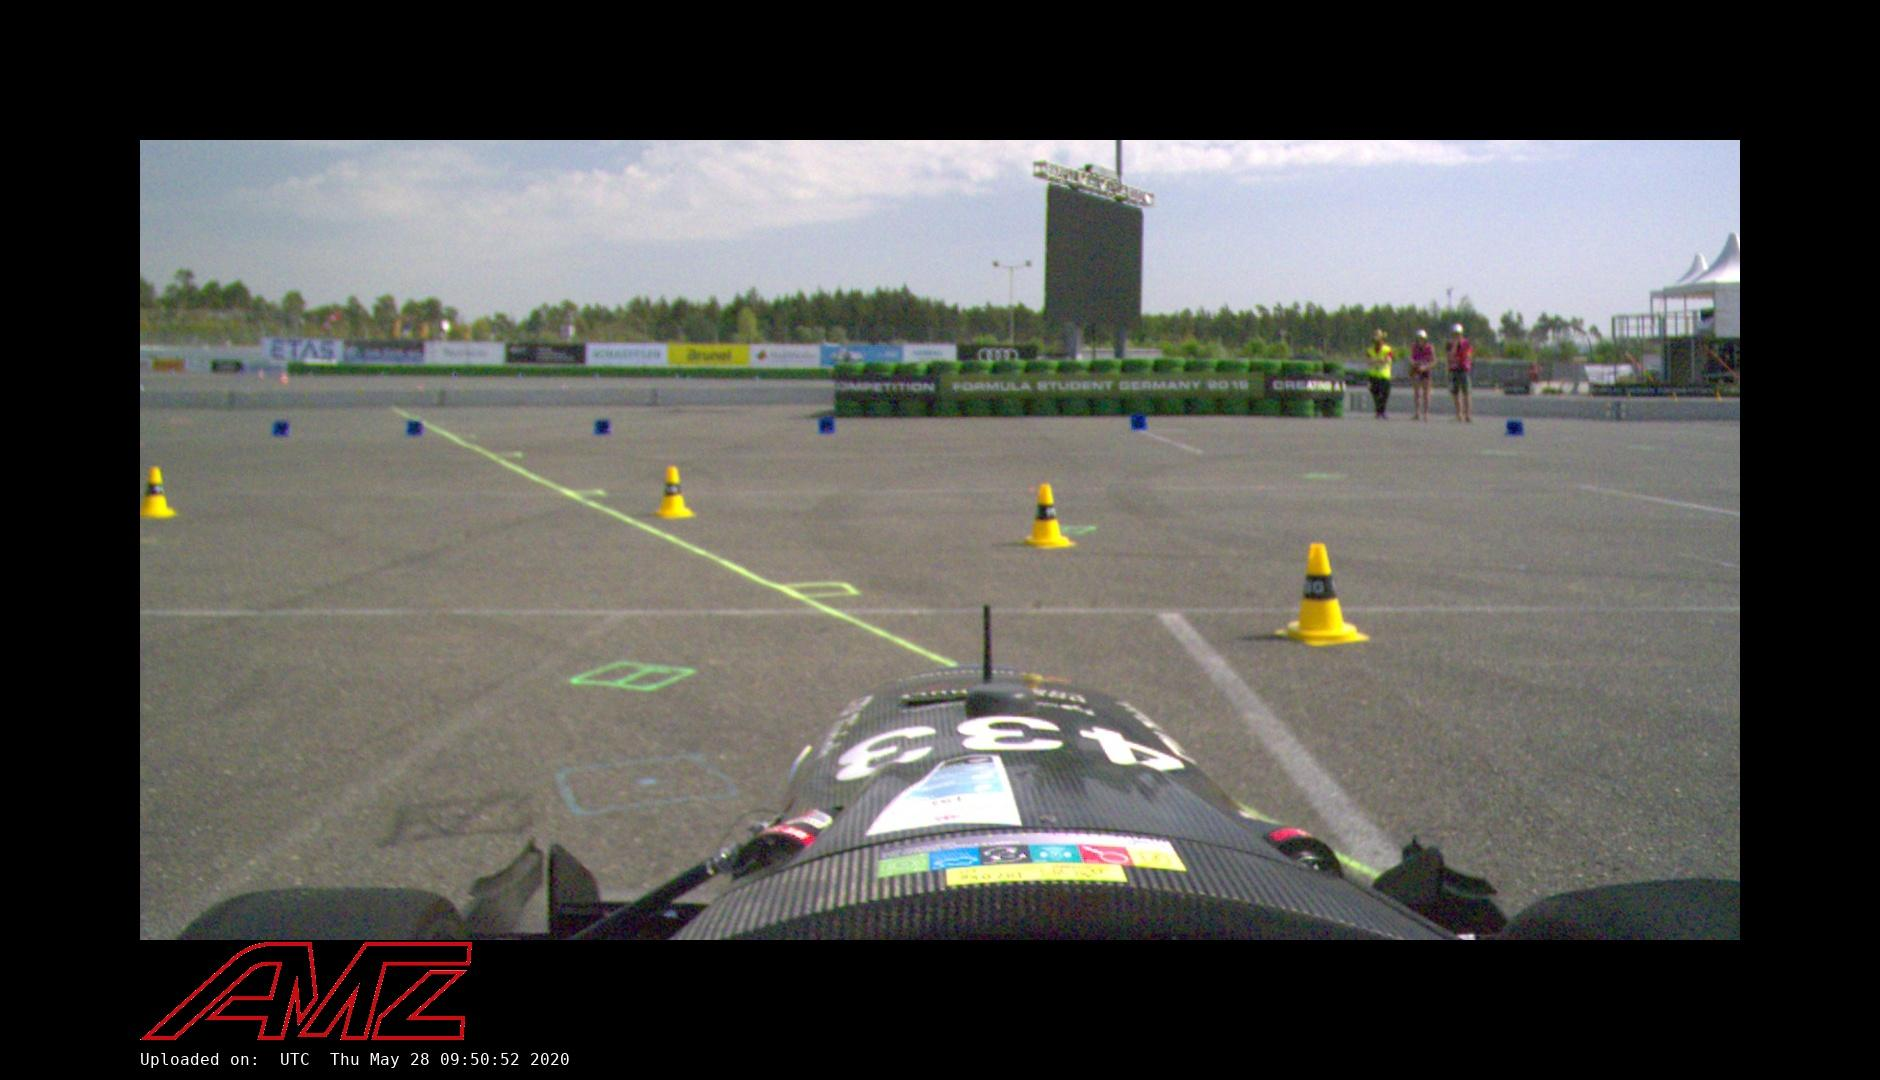yellow_cone: (1276, 543, 1370, 647), (1016, 483, 1077, 552), (649, 464, 695, 521), (139, 466, 177, 519)
